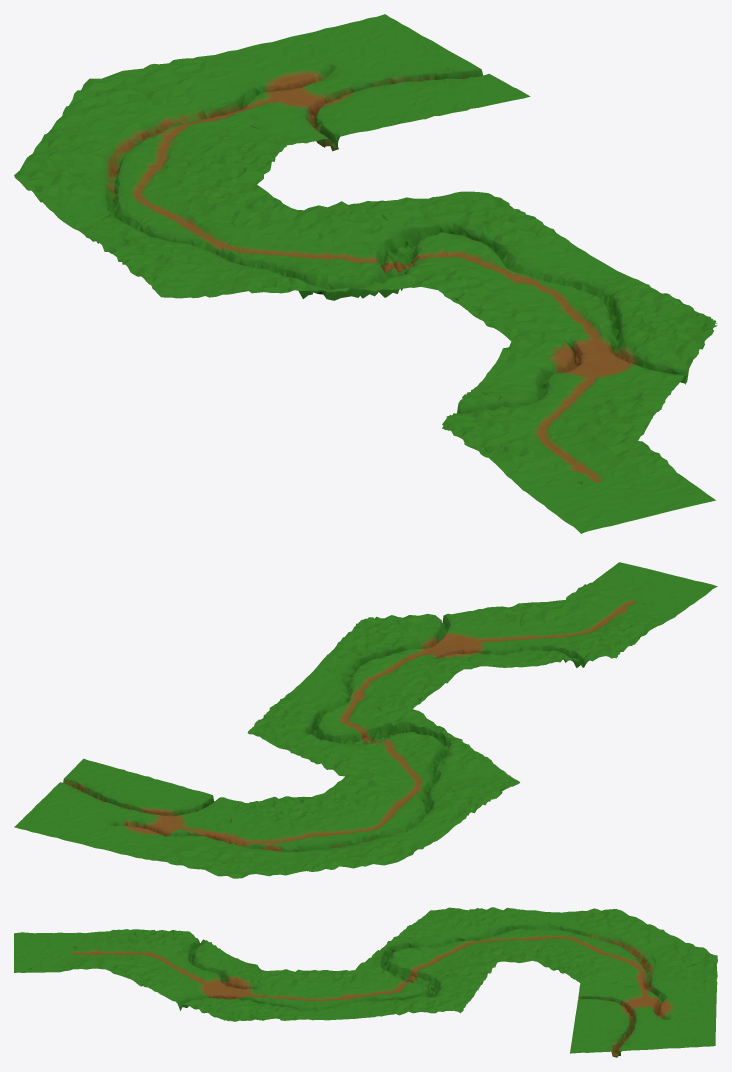
File: Ground.glb
3 views of the same model, one above another, from view 1: azimuth 30°, elevation 25°; view 2: azimuth 150°, elevation 25°; view 3: azimuth 270°, elevation 25° (orthographic). The views are drawn at different scales.
Visible parts, largest first — view 1: Retopo_Plane.002; view 2: Retopo_Plane.002; view 3: Retopo_Plane.002.
Boxes of the visible parts, x1=… form: Retopo_Plane.002: x1=14, y1=14, x2=717, y2=533; Retopo_Plane.002: x1=14, y1=562, x2=717, y2=878; Retopo_Plane.002: x1=14, y1=907, x2=717, y2=1057.
Size of the model in its own units: 117 by 6.36 by 244.
Materials: 1 (1 with a texture image).
